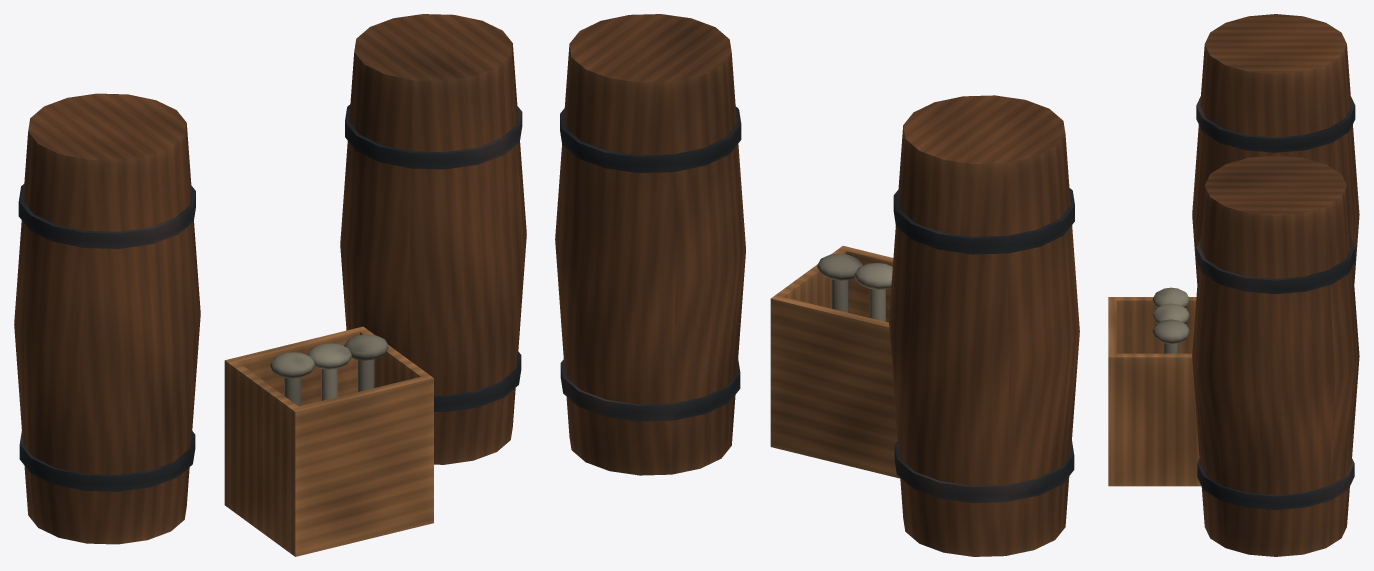
Rendered from Furn_Brew_IngredientBarrels.fbx.
The picture shows the model from 3 angles, left to right: view 1: azimuth 30°, elevation 25°; view 2: azimuth 150°, elevation 25°; view 3: azimuth 270°, elevation 25°; orthographic projection. The views are drawn at different scales.
Parts seen in each view (by area): view 1: Furn_Brew_IngredientBarrels; view 2: Furn_Brew_IngredientBarrels; view 3: Furn_Brew_IngredientBarrels.
Boxes of the visible parts, box(x1,y1,x2,y2) form: Furn_Brew_IngredientBarrels: box(14, 14, 526, 556); Furn_Brew_IngredientBarrels: box(555, 14, 1079, 556); Furn_Brew_IngredientBarrels: box(1108, 14, 1359, 556).
Size of the model in its own units: 1.2 by 0.9 by 0.6.
Materials: 4 (4 with a texture image).
